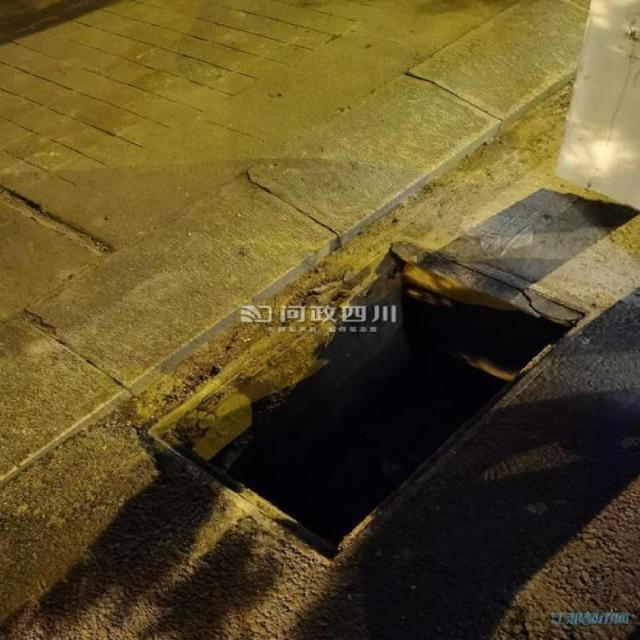hole: (162, 256, 578, 551)
